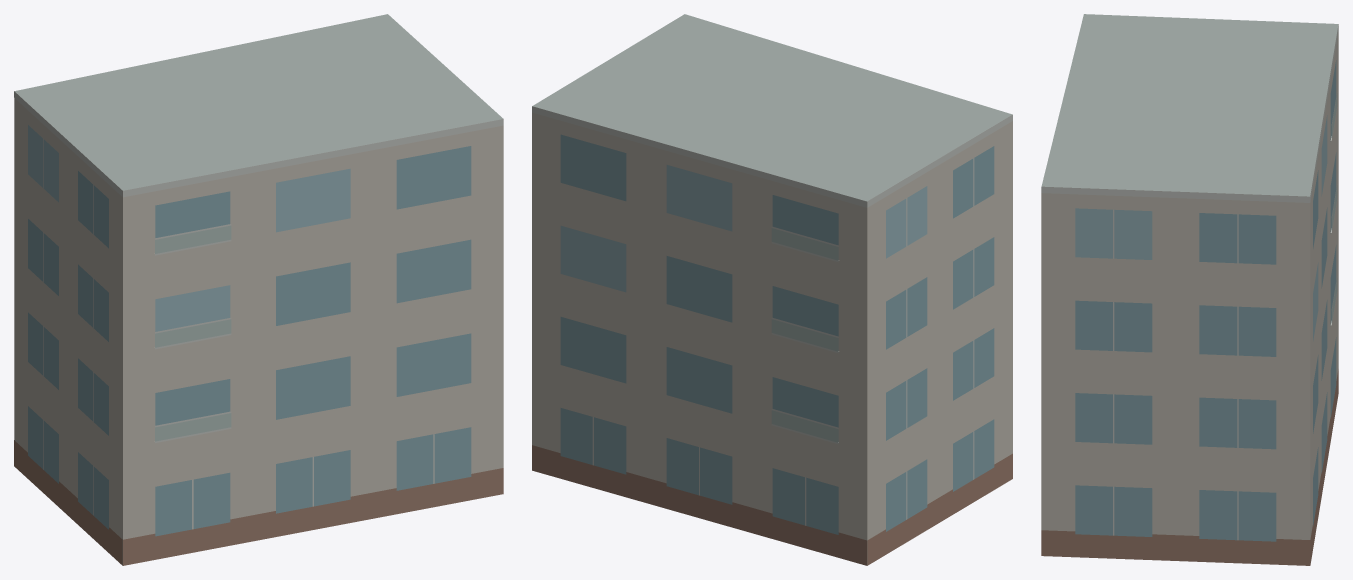
The model's file is survey-upis-32834949.glb.
3 views of the same model, side by side, from view 1: azimuth 30°, elevation 25°; view 2: azimuth 150°, elevation 25°; view 3: azimuth 270°, elevation 25° (orthographic). The views are drawn at different scales.
Parts seen in each view (by area): view 1: survey-upis-32834949.tmp; view 2: survey-upis-32834949.tmp; view 3: survey-upis-32834949.tmp.
Boxes of the visible parts, left/top/right/bottom form: survey-upis-32834949.tmp: left=14, top=14, right=503, bottom=565; survey-upis-32834949.tmp: left=532, top=14, right=1012, bottom=565; survey-upis-32834949.tmp: left=1041, top=14, right=1338, bottom=565.
Size of the model in its own units: 14.79 by 13.94 by 10.17.
